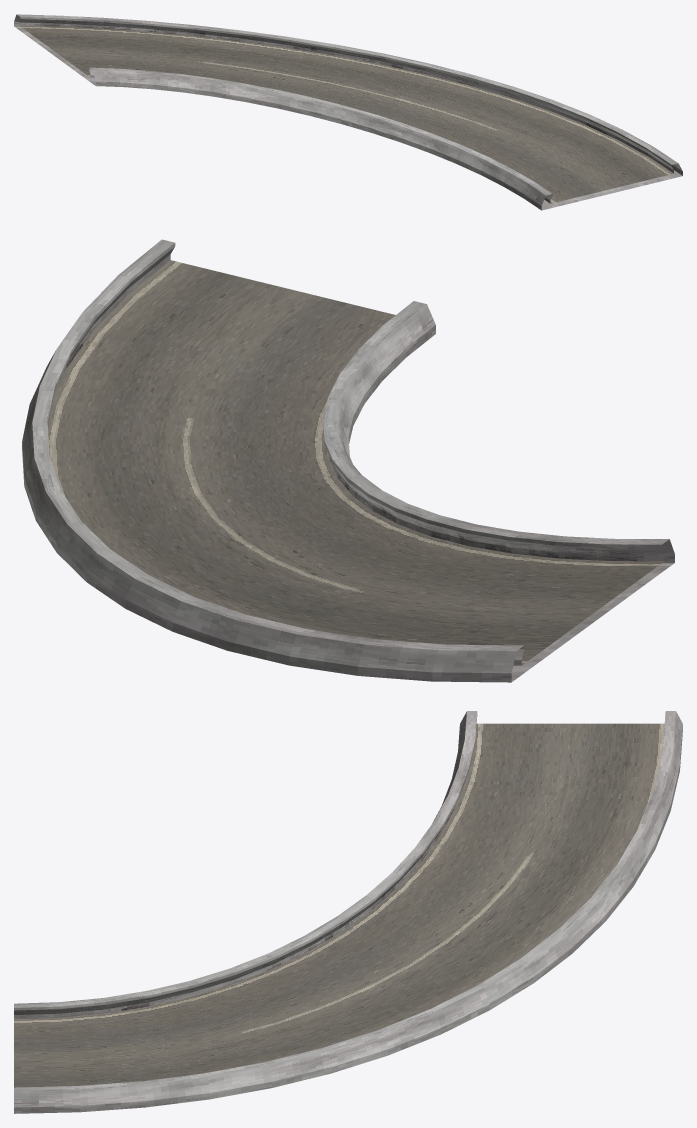
File: turn-left3x3.glb
The picture shows the model from 3 angles, top to bottom: view 1: azimuth 30°, elevation 25°; view 2: azimuth 150°, elevation 25°; view 3: azimuth 270°, elevation 25°; orthographic projection. The views are drawn at different scales.
Visible parts, largest first — view 1: road-Turn-Flat-BiSlopeUp-Up2-Left-Size3; view 2: road-Turn-Flat-BiSlopeUp-Up2-Left-Size3; view 3: road-Turn-Flat-BiSlopeUp-Up2-Left-Size3.
Part boxes in pixels (x1,y1,x2,y2): road-Turn-Flat-BiSlopeUp-Up2-Left-Size3: (14, 14, 682, 210); road-Turn-Flat-BiSlopeUp-Up2-Left-Size3: (22, 239, 674, 682); road-Turn-Flat-BiSlopeUp-Up2-Left-Size3: (14, 711, 682, 1113).
Bounding box in the file's own units: 3 × 0.5938 × 3.
Materials: 2 (2 with a texture image).
